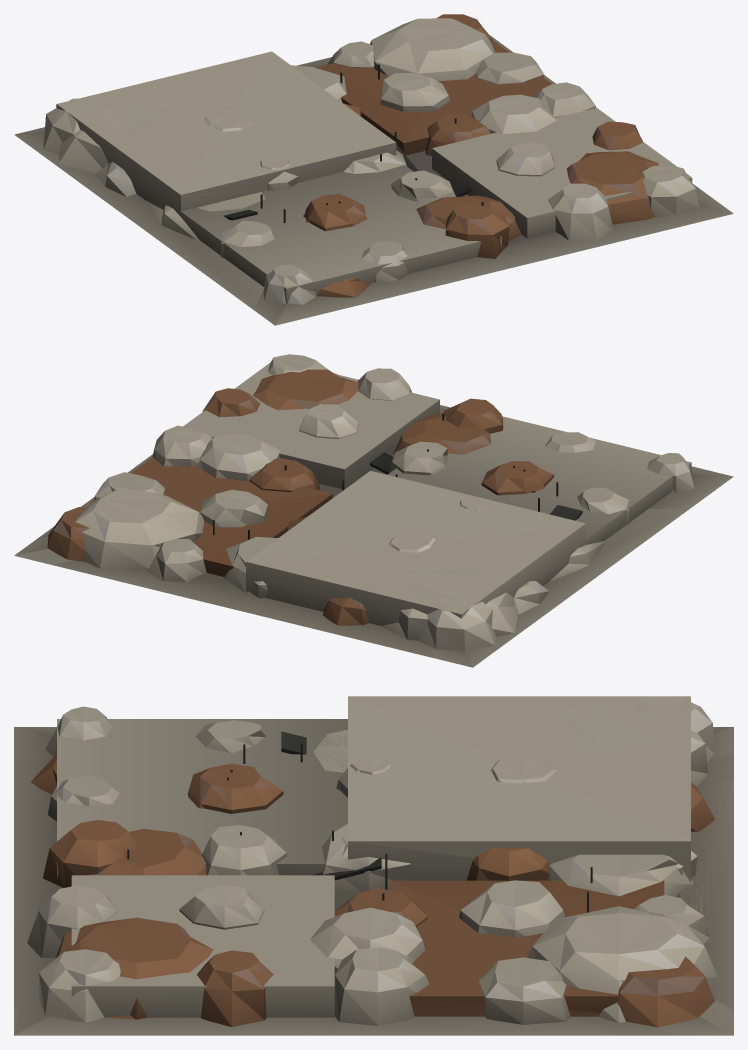
File: neutral_rubble_4x4.glb
3 views of the same model, one above another, from view 1: azimuth 30°, elevation 25°; view 2: azimuth 150°, elevation 25°; view 3: azimuth 270°, elevation 25° (orthographic). The views are drawn at different scales.
Parts seen in each view (by area): view 1: body (×3); view 2: body (×3); view 3: body (×3).
Part boxes in pixels (left/top/right/bottom): body (×3): left=14, top=14, right=733, bottom=325; body (×3): left=14, top=354, right=733, bottom=667; body (×3): left=14, top=696, right=733, bottom=1035.
Bounding box in the file's own units: 11.04 × 0.905 × 10.88.
